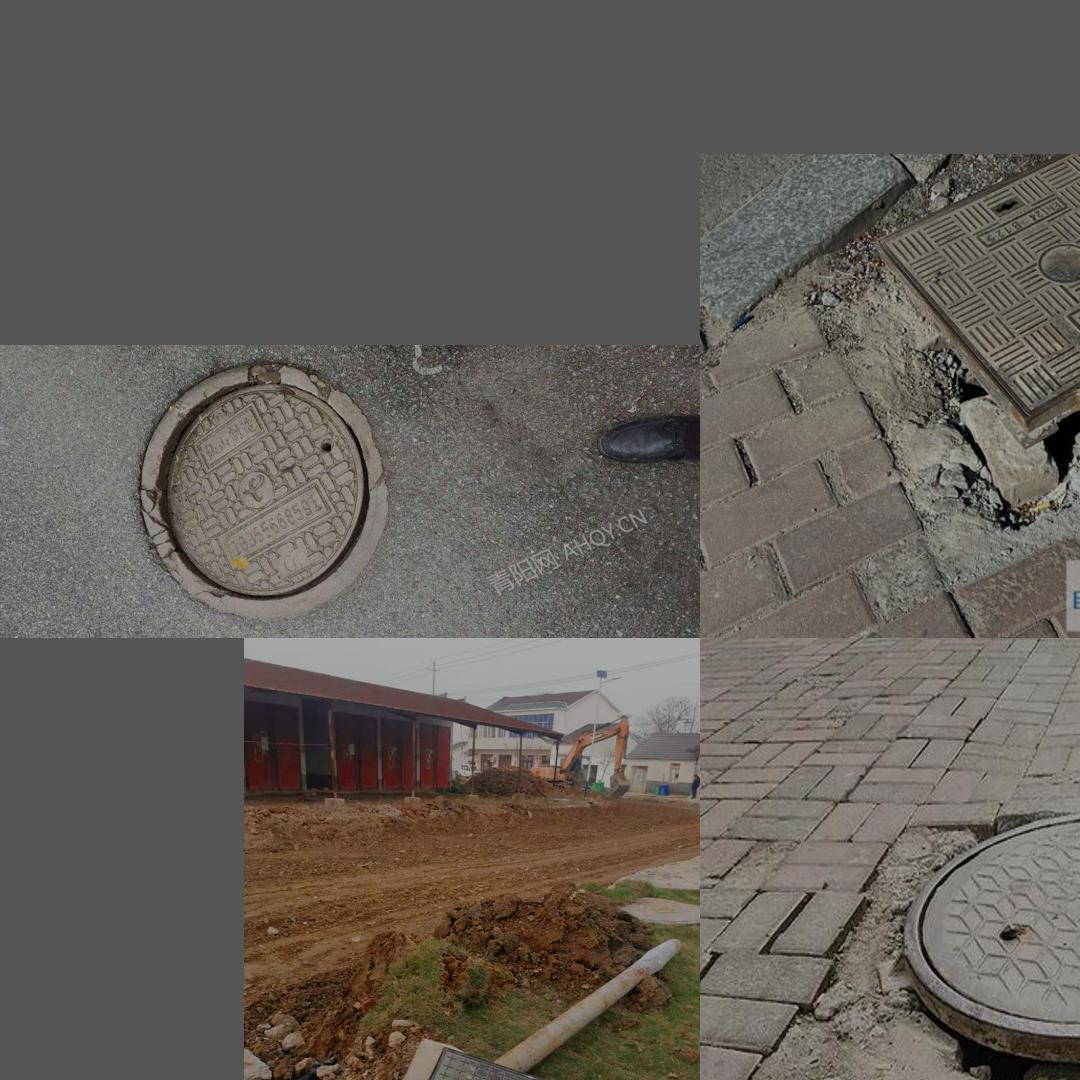circle: (809, 161, 1080, 540), (748, 811, 1080, 1080), (95, 356, 409, 626), (338, 1036, 646, 1080)
